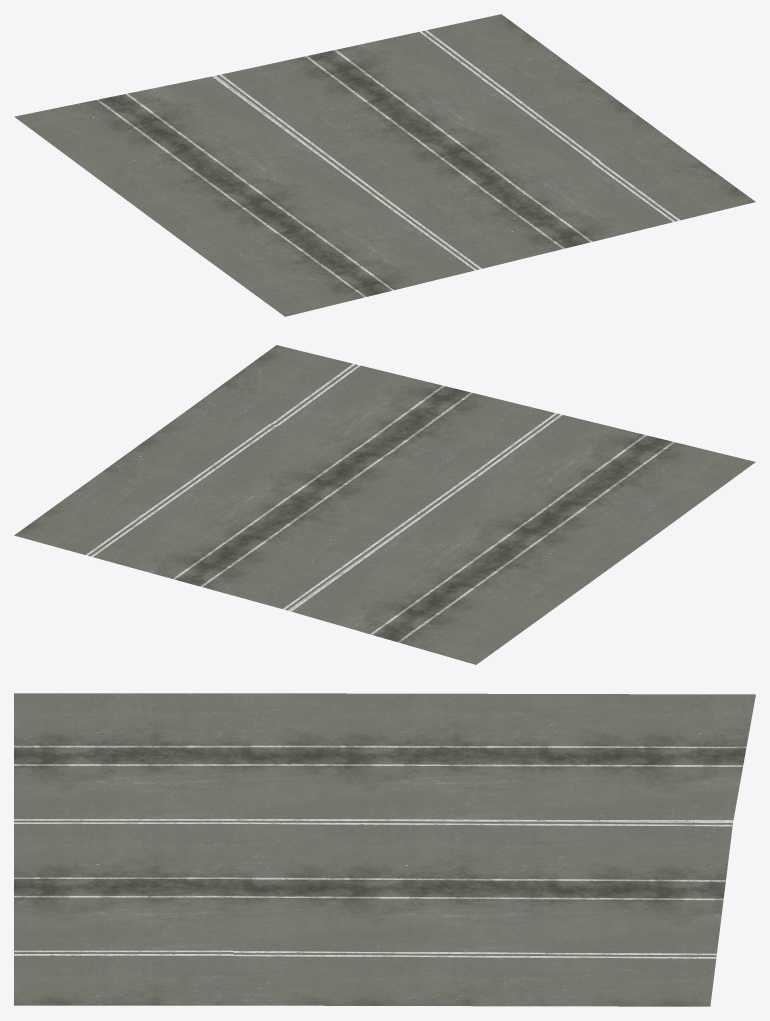
3 views of the same model, one above another, from view 1: azimuth 30°, elevation 25°; view 2: azimuth 150°, elevation 25°; view 3: azimuth 270°, elevation 25° (orthographic). The views are drawn at different scales.
Visible parts, largest first — view 1: SM_HK_01_05; view 2: SM_HK_01_05; view 3: SM_HK_01_05.
Boxes of the visible parts, x1=… form: SM_HK_01_05: x1=14, y1=14, x2=755, y2=316; SM_HK_01_05: x1=14, y1=345, x2=755, y2=664; SM_HK_01_05: x1=14, y1=693, x2=755, y2=1006.
Size of the model in its own units: 3548 by 0 by 3550.
